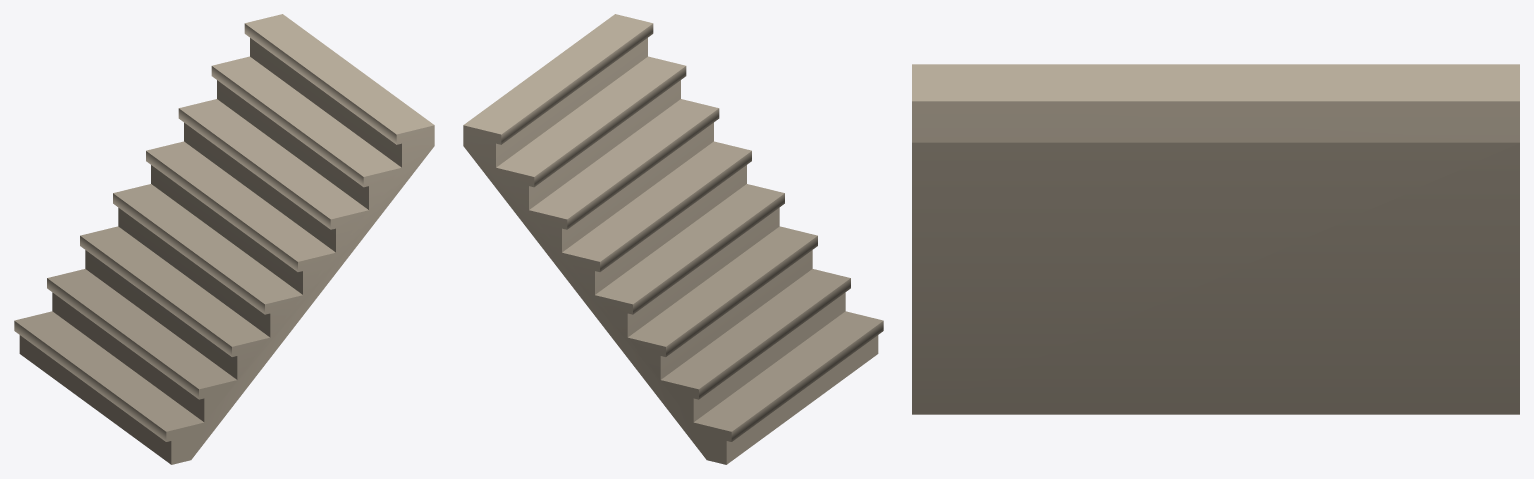
The model's file is stairs.glb.
The picture shows the model from 3 angles, left to right: view 1: azimuth 30°, elevation 25°; view 2: azimuth 150°, elevation 25°; view 3: azimuth 270°, elevation 25°; orthographic projection. The views are drawn at different scales.
Visible parts, largest first — view 1: stairs; view 2: stairs; view 3: stairs.
Boxes of the visible parts, x1=… form: stairs: x1=14, y1=14, x2=434, y2=464; stairs: x1=463, y1=14, x2=883, y2=464; stairs: x1=912, y1=64, x2=1519, y2=414.
Size of the model in its own units: 1.02 by 1 by 1.
